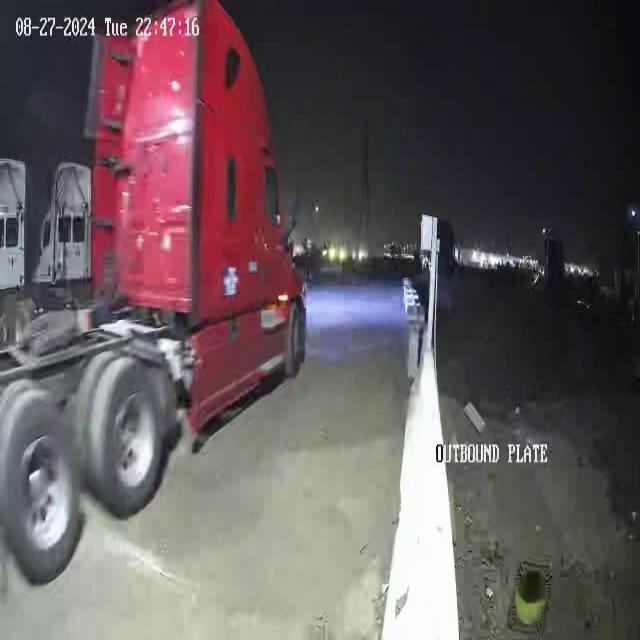TRUCK_IN: (0, 2, 308, 586)
